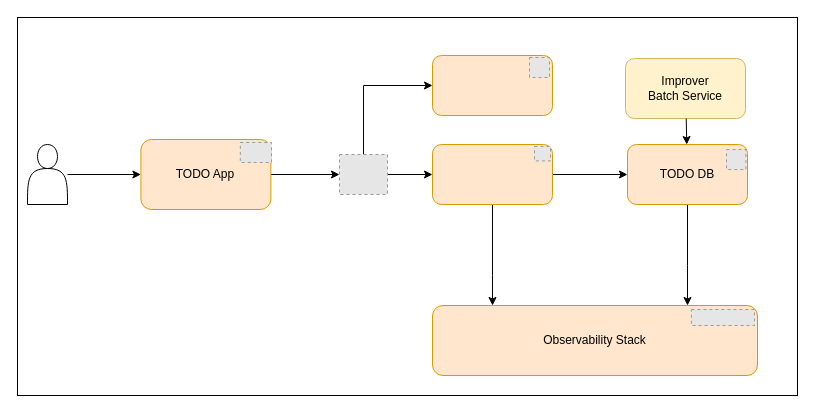
The diagram is 815 pixels wide and 413 high, and some of its shapes have lost their labels. Grey dashed boxes stand in for pictures. The shapes that lost their labels are listed below. From the top down, each one's box as (x1, y1, x2, y2) in pixels, then its label:
(432, 54, 552, 116): SSO Service
(432, 144, 552, 204): Activity Service
